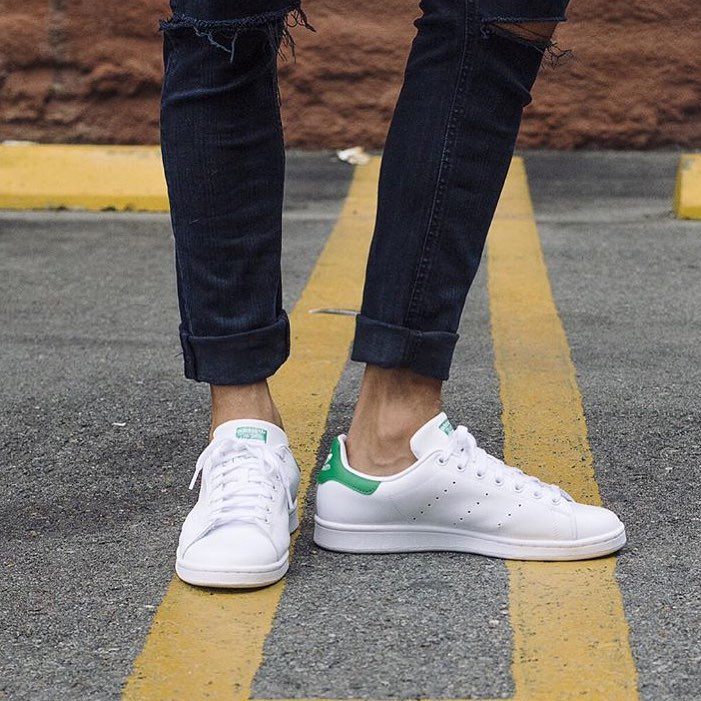sneaker: (307, 337, 637, 585), (152, 349, 318, 605)
